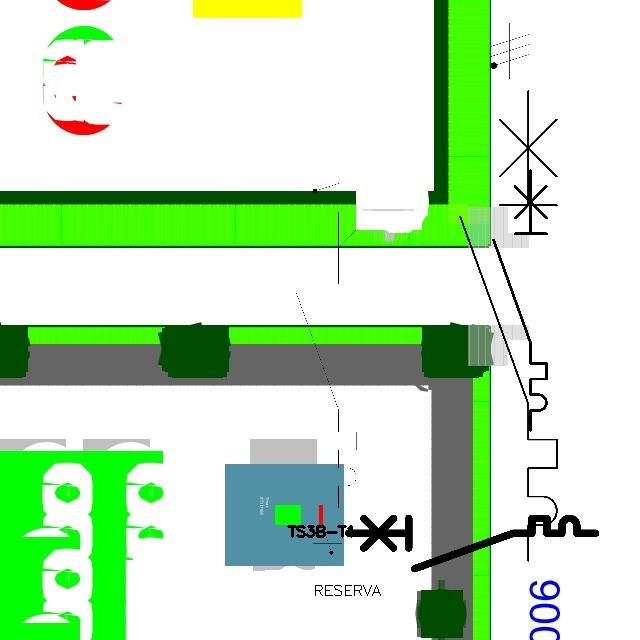interruptor_termomagnetico: (448, 78, 569, 572), (288, 204, 364, 515), (487, 164, 553, 437), (342, 512, 602, 575)
